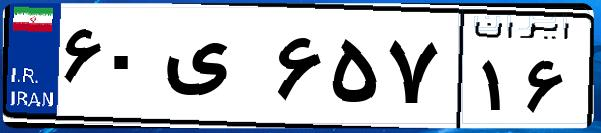0: (110, 28, 158, 98)
1: (475, 38, 525, 113)
5: (330, 28, 385, 110)
6: (270, 28, 330, 110), (57, 26, 110, 100), (525, 38, 570, 115)
7: (385, 28, 445, 110)
ی: (158, 20, 270, 120)
